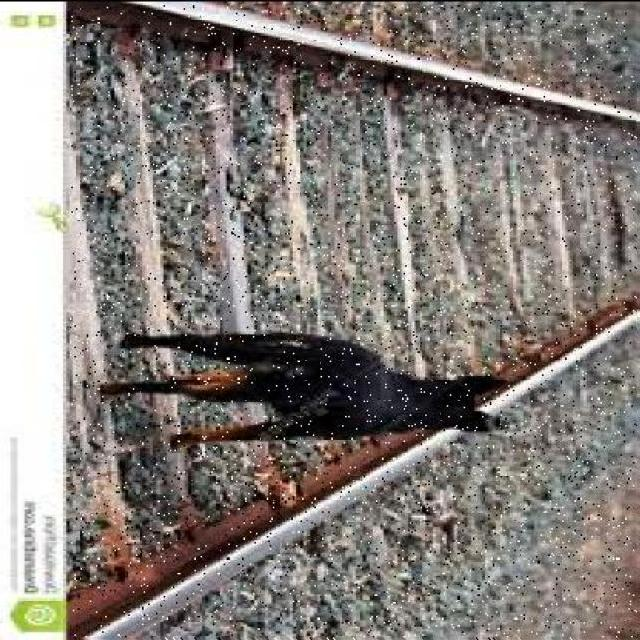rail: (72, 5, 637, 640)
